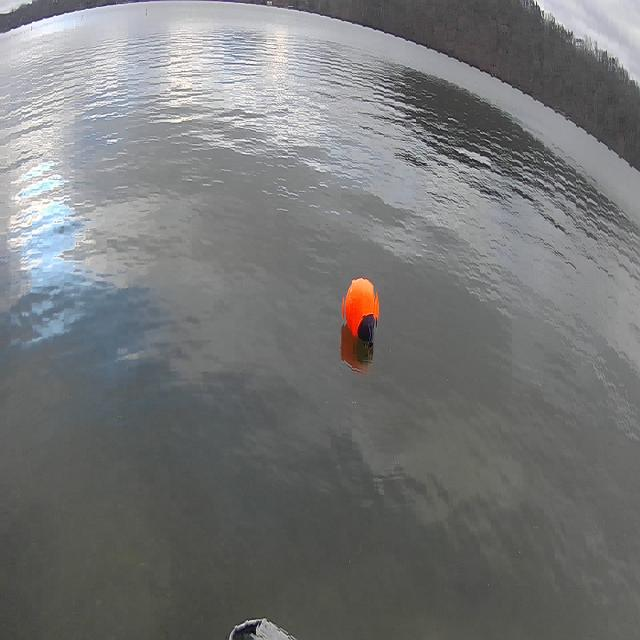Buoy: (338, 267, 391, 363)
